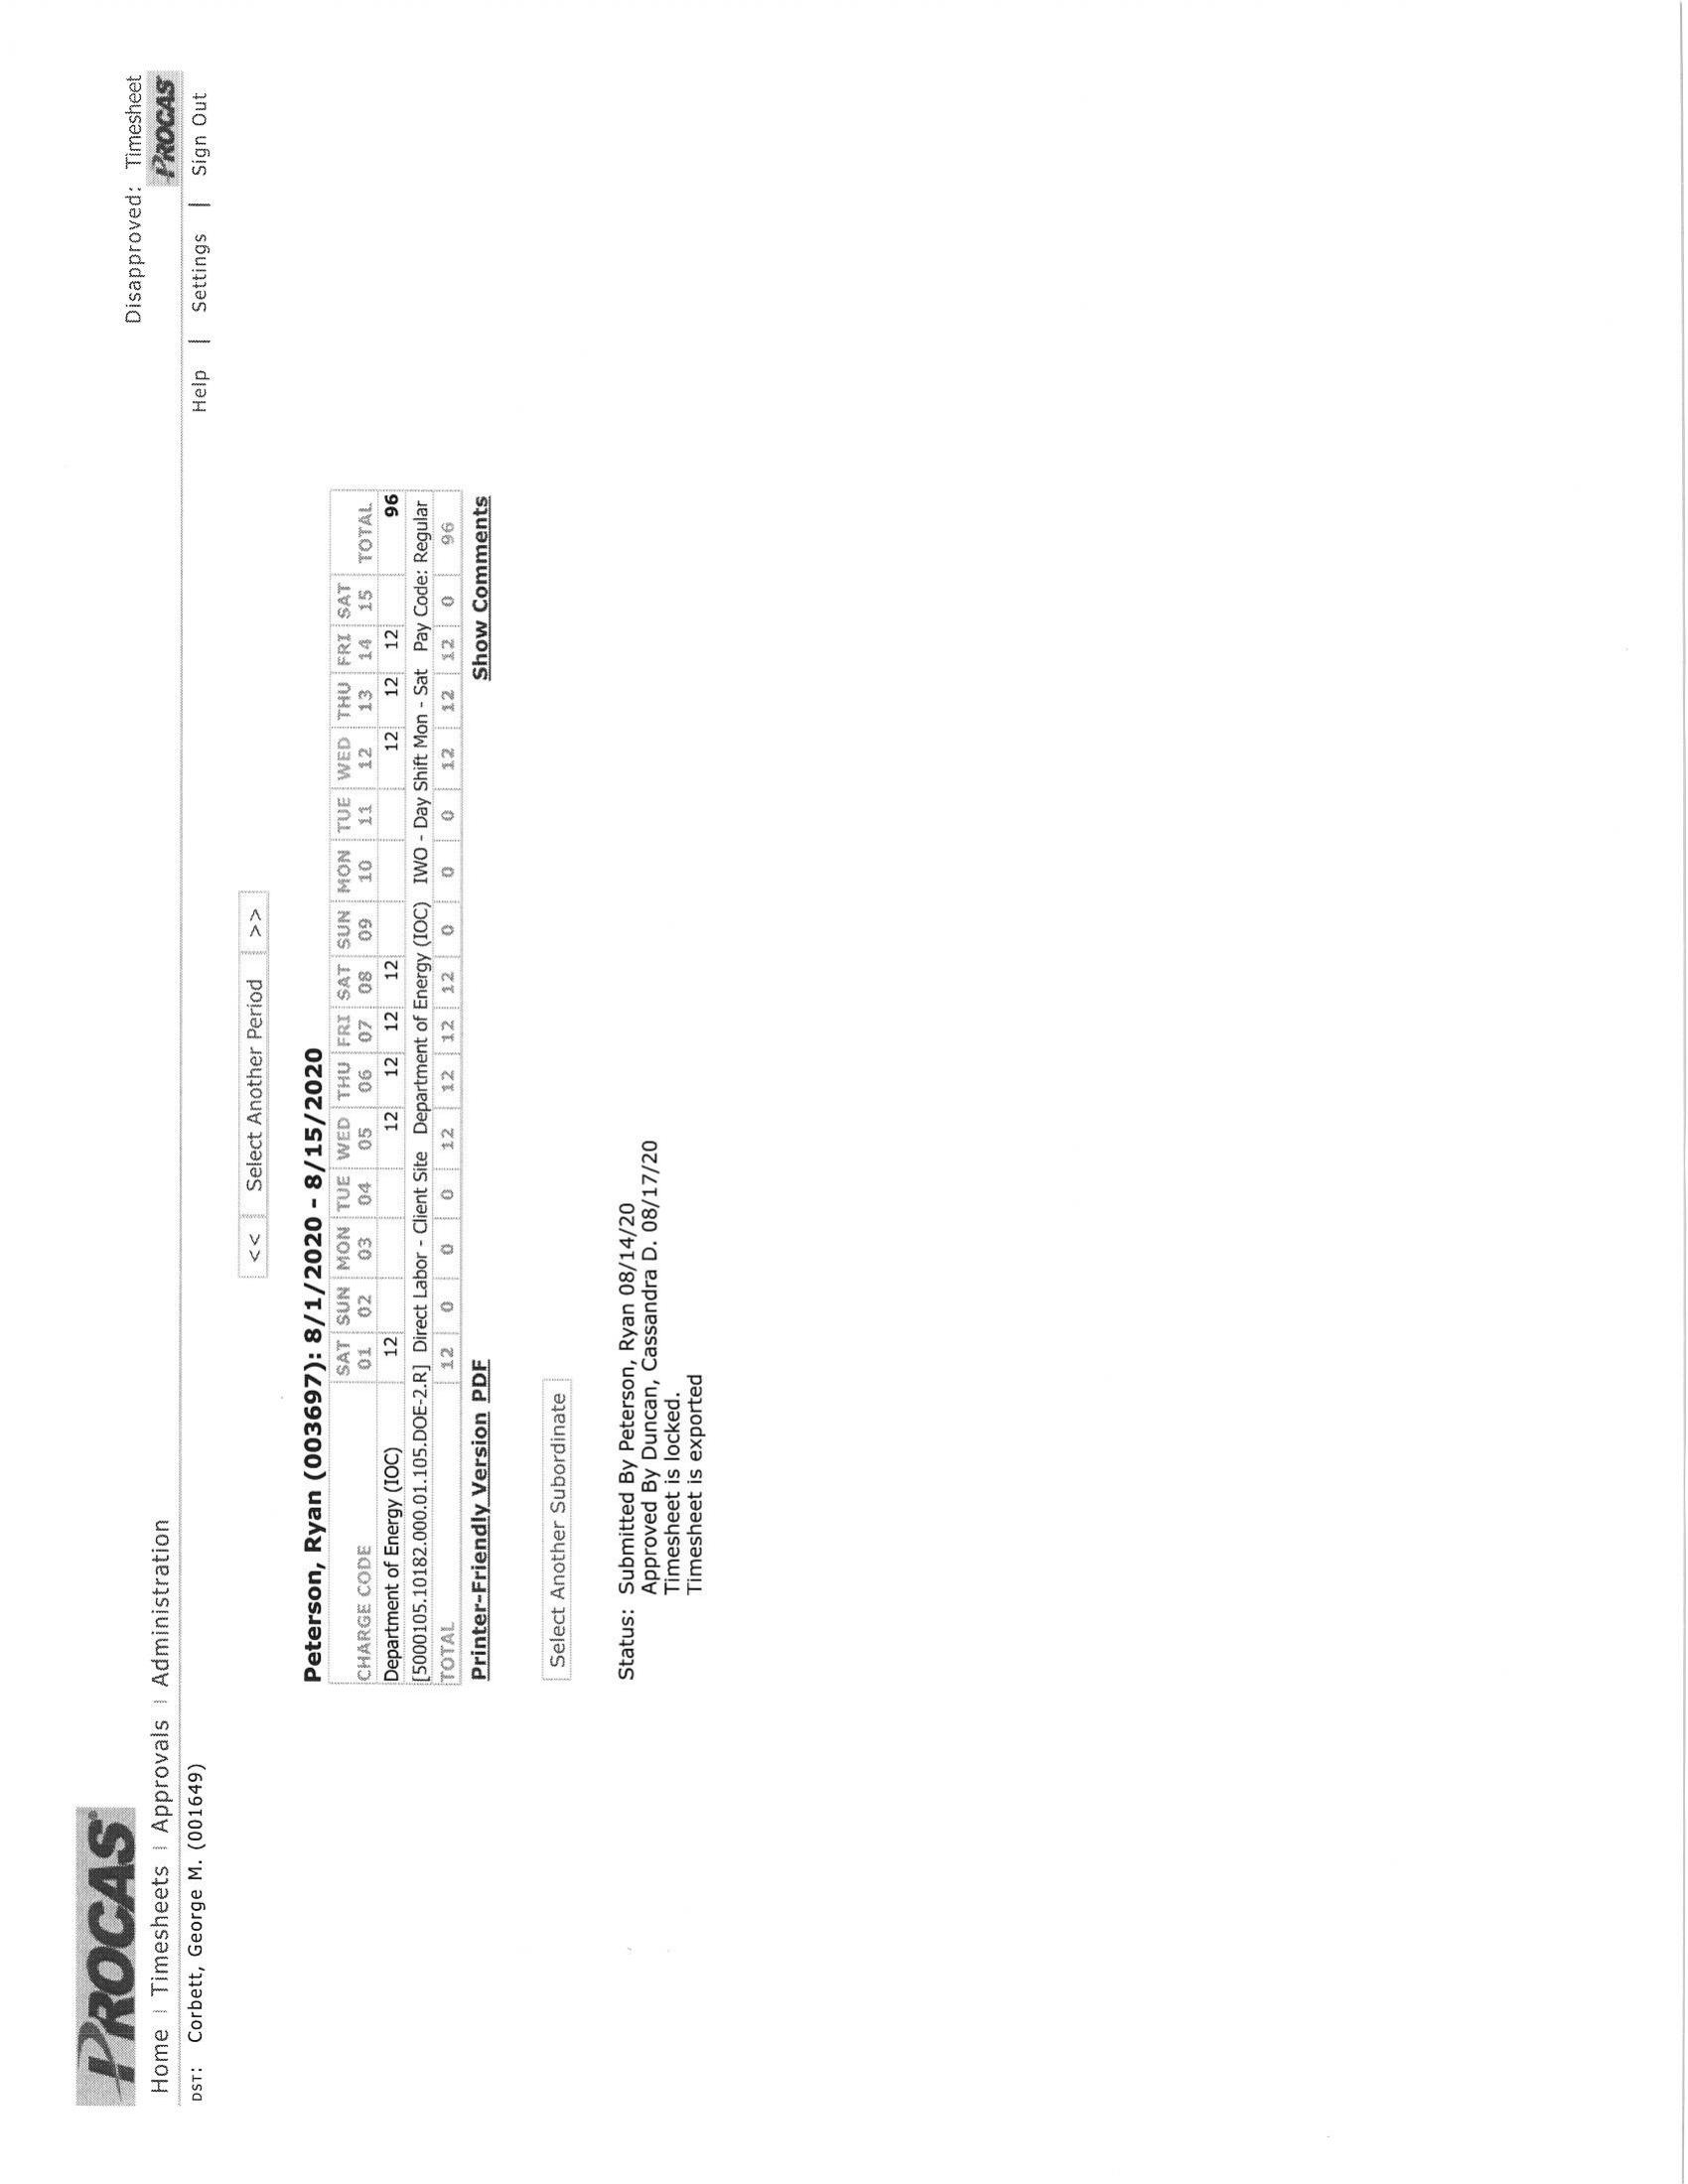table: (319, 479, 465, 1700)
